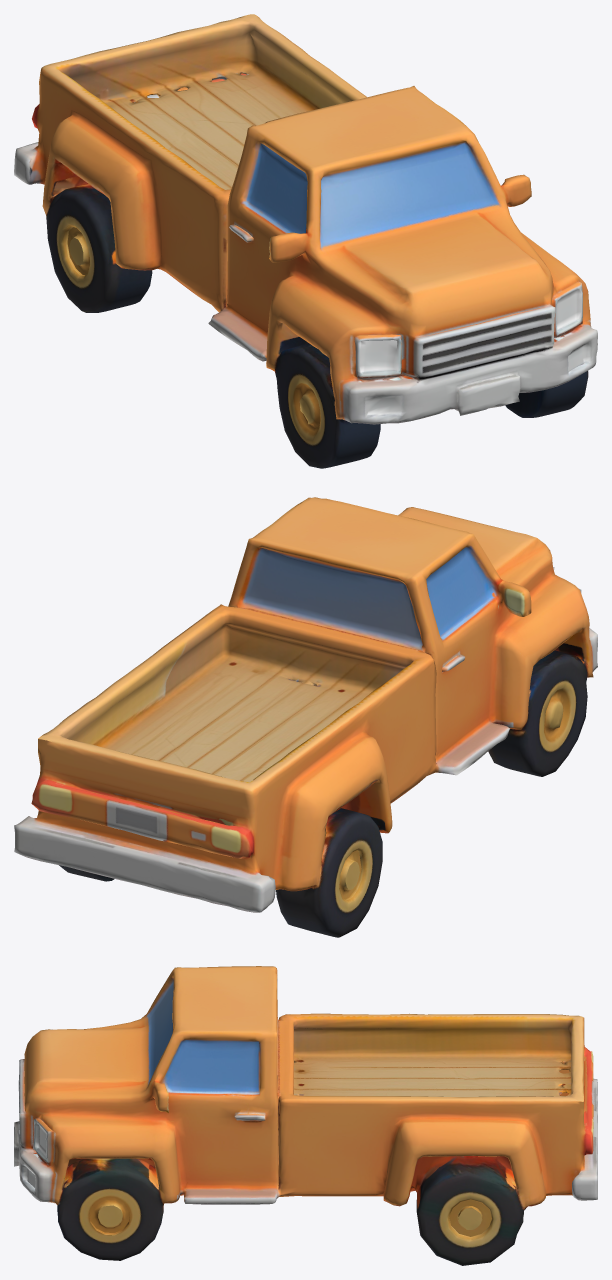
The model's file is orange+pickup+3d+model-optimized.fbx.
3 views of the same model, one above another, from view 1: azimuth 30°, elevation 25°; view 2: azimuth 150°, elevation 25°; view 3: azimuth 270°, elevation 25° (orthographic). The views are drawn at different scales.
Parts seen in each view (by area): view 1: tripo_node_586a1f12; view 2: tripo_node_586a1f12; view 3: tripo_node_586a1f12.
Boxes of the visible parts, bbox=[...] form: tripo_node_586a1f12: bbox=[14, 14, 597, 468]; tripo_node_586a1f12: bbox=[14, 497, 597, 937]; tripo_node_586a1f12: bbox=[14, 966, 597, 1265].
Bounding box in the file's own units: 0.4579 × 0.4028 × 1.
1 material, 1 textured.
